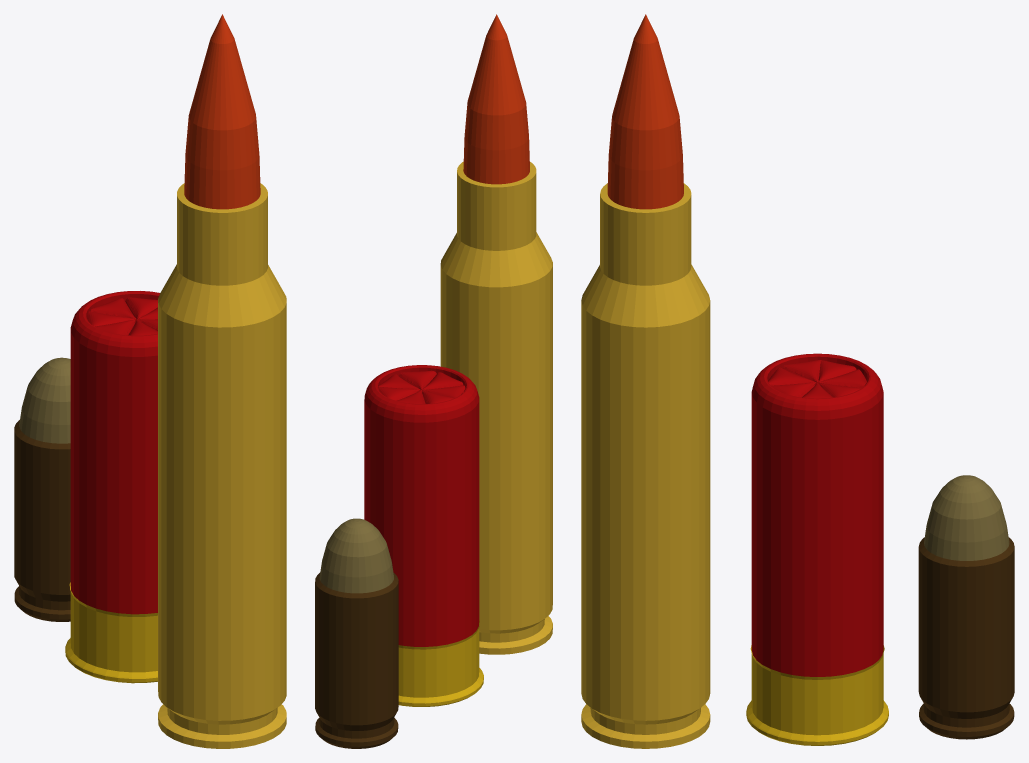
File: bullets.obj
3 renders of one model, left to right at view 1: azimuth 30°, elevation 25°; view 2: azimuth 150°, elevation 25°; view 3: azimuth 270°, elevation 25°, orthographic. The views are drawn at different scales.
Visible parts, largest first — view 1: bullet_for_rifle_Цилиндр, bullet_for_shotgun_Цилиндр.002, bullet_for_pistol_Цилиндр.001; view 2: bullet_for_rifle_Цилиндр, bullet_for_shotgun_Цилиндр.002, bullet_for_pistol_Цилиндр.001; view 3: bullet_for_rifle_Цилиндр, bullet_for_shotgun_Цилиндр.002, bullet_for_pistol_Цилиндр.001.
Part boxes in pixels (box(x1,y1,x2,y2)): bullet_for_rifle_Цилиндр: box(158, 14, 286, 748); bullet_for_shotgun_Цилиндр.002: box(65, 291, 159, 683); bullet_for_pistol_Цилиндр.001: box(14, 357, 70, 621); bullet_for_rifle_Цилиндр: box(440, 14, 552, 654); bullet_for_shotgun_Цилиндр.002: box(364, 365, 483, 706); bullet_for_pistol_Цилиндр.001: box(315, 518, 398, 748); bullet_for_rifle_Цилиндр: box(581, 14, 710, 748); bullet_for_shotgun_Цилиндр.002: box(746, 353, 888, 745); bullet_for_pistol_Цилиндр.001: box(918, 475, 1014, 739).
Size of the model in its own units: 1.68 by 9.21 by 5.11.
